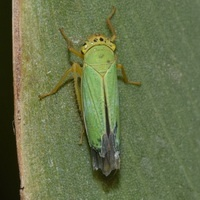insect: (38, 6, 140, 175)
